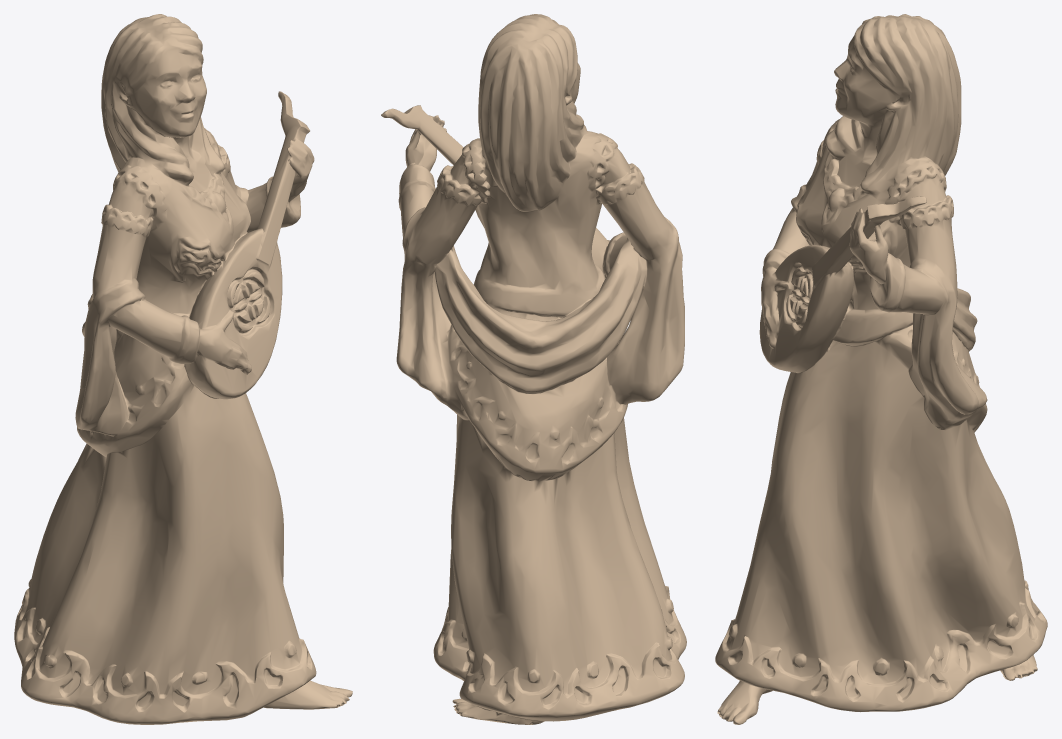
Rendered from halfling-bard.glb.
3 views of the same model, side by side, from view 1: azimuth 30°, elevation 25°; view 2: azimuth 150°, elevation 25°; view 3: azimuth 270°, elevation 25° (orthographic).
Parts seen in each view (by area): view 1: halfling-bard-teirale; view 2: halfling-bard-teirale; view 3: halfling-bard-teirale.
Part boxes in pixels (x1=…): halfling-bard-teirale: x1=14, y1=14, x2=352, y2=724; halfling-bard-teirale: x1=381, y1=14, x2=686, y2=724; halfling-bard-teirale: x1=715, y1=14, x2=1047, y2=724.
Bounding box in the file's own units: 13.6 × 29.98 × 13.85.
